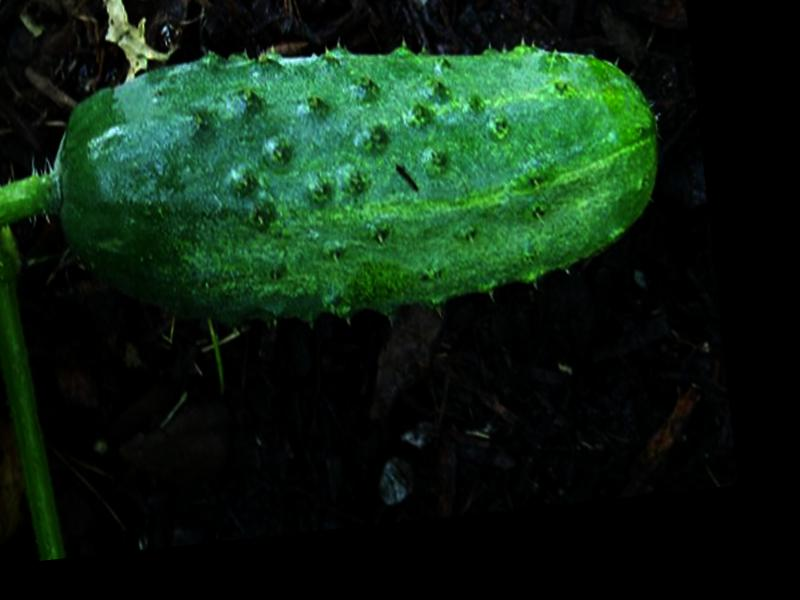Cucumber: (42, 9, 678, 349)
